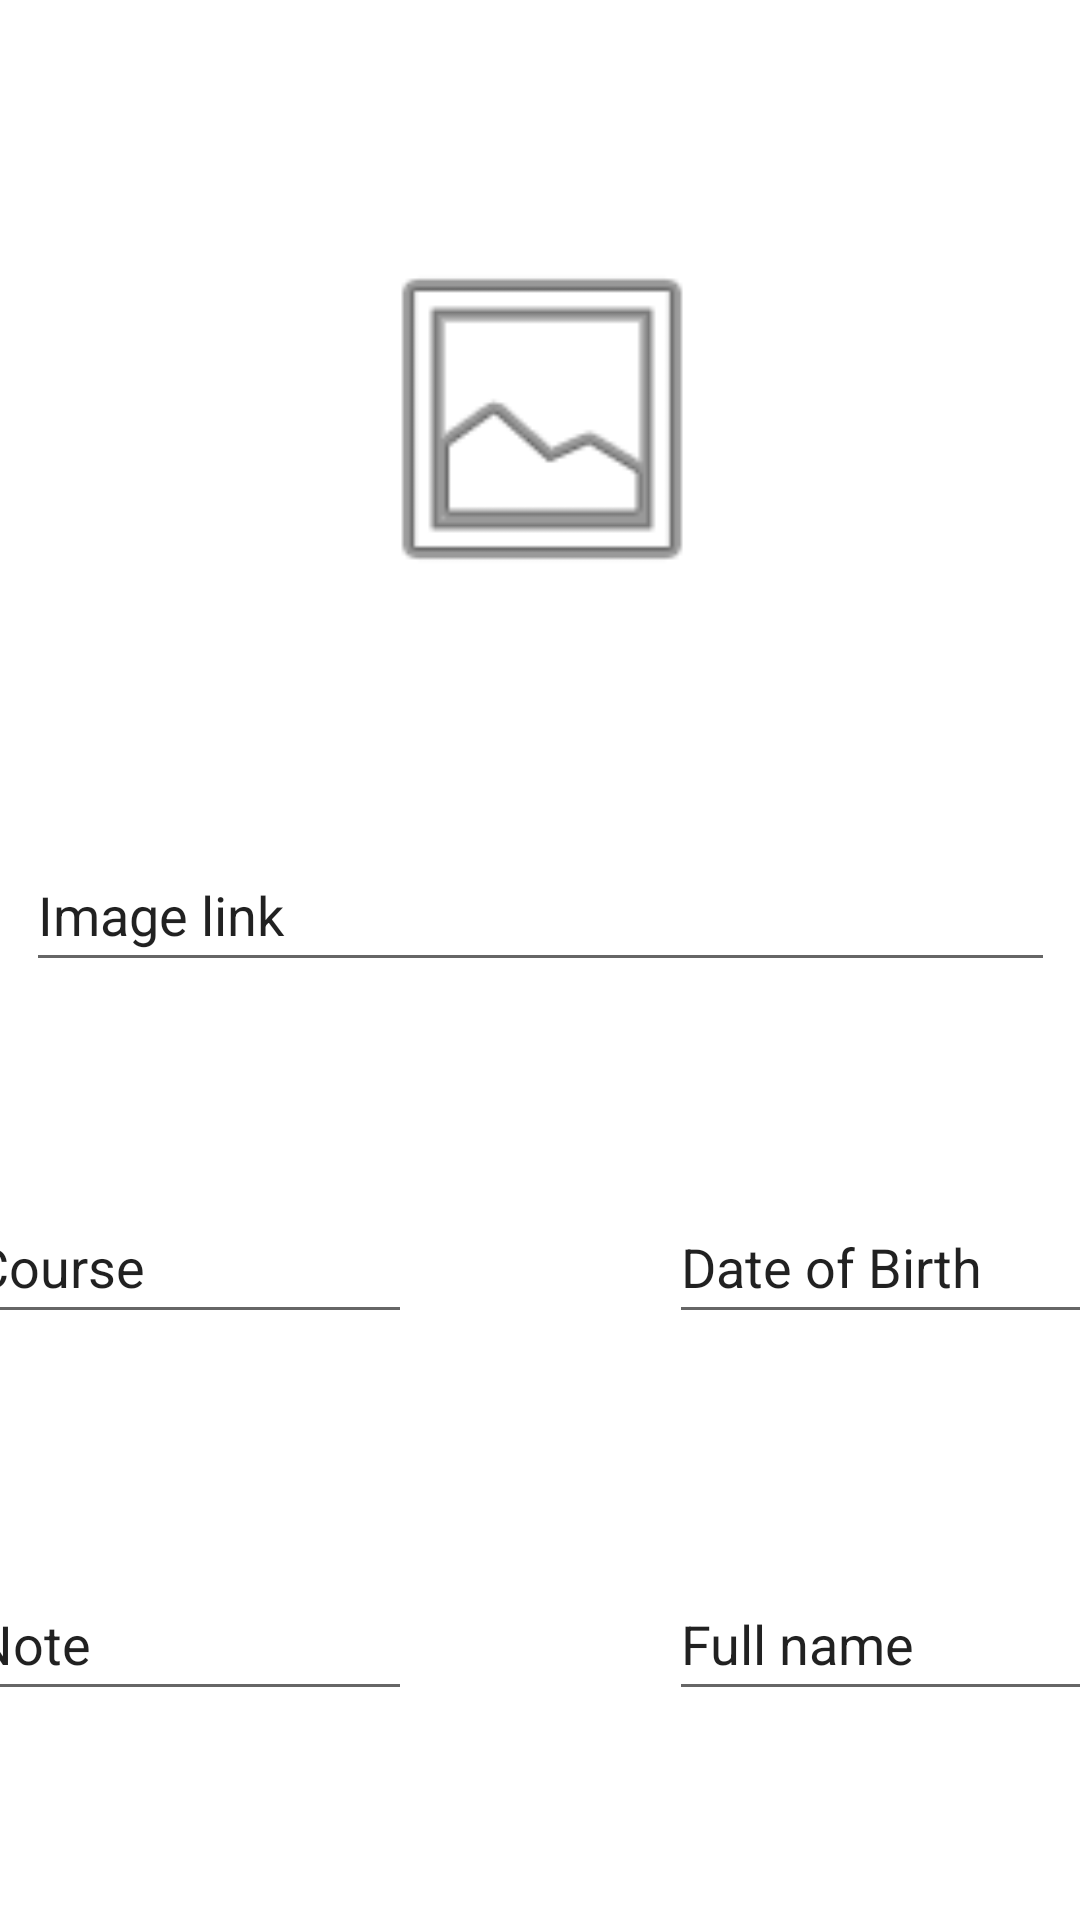

Named icons in this screenshot (1080px×1920px) and their bounding boxes, box(x1, y1, x2, y2):
gallery: box(402, 278, 682, 560)
